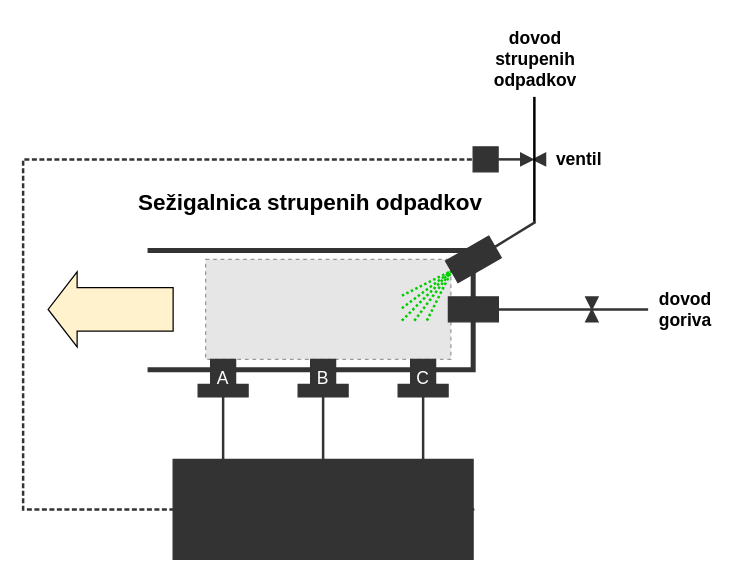
The diagram is 744 pixels wide and 581 high, and some of its shapes have lost their labels. Grey dashed boxes stand in for pictures. The box of each missing label's shape, as (x1, y1, x2, y2) in pixels:
izpuh: (47, 271, 173, 347)
Logični sistem (ugasne ventil strupenih odpadkov): (172, 458, 473, 559)
